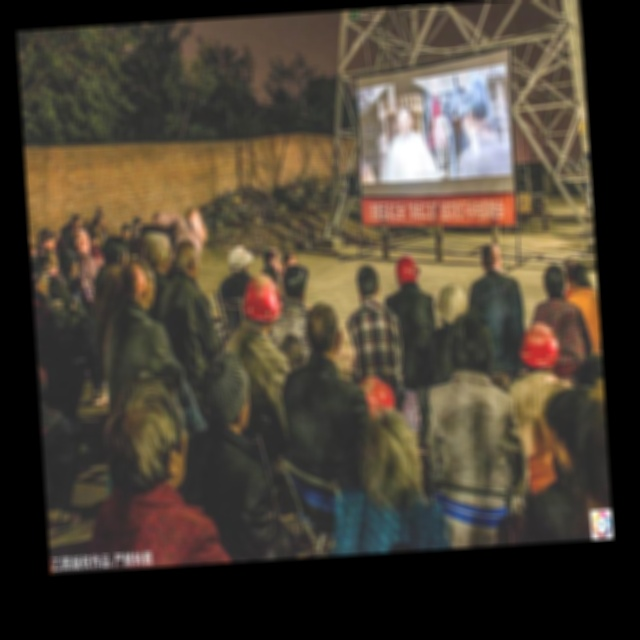Con_Casco: (436, 282, 467, 326), (394, 254, 419, 286)
Sin_Casco_Mascarrilla: (307, 301, 339, 356), (355, 264, 381, 300)
Sin_Chaleco: (347, 301, 400, 376)
